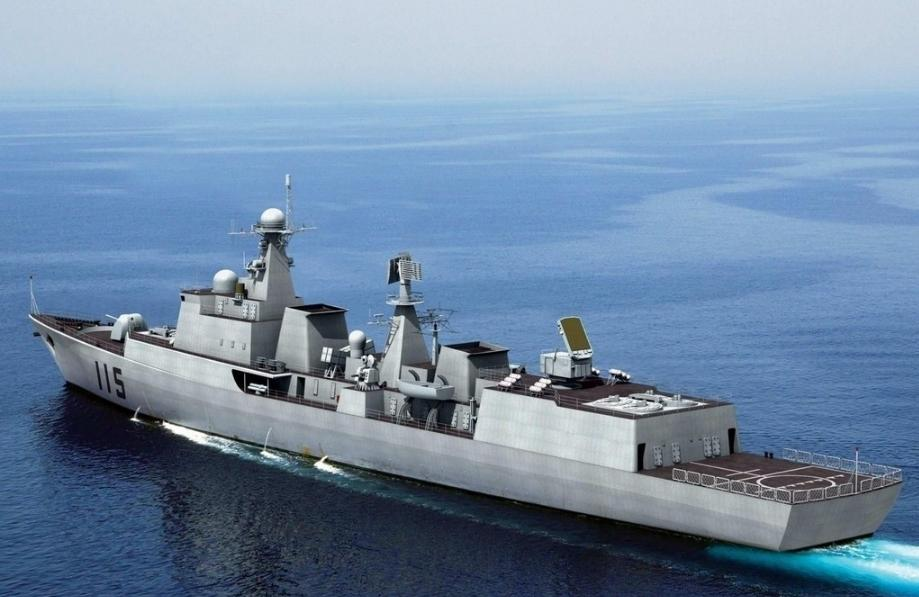warship: (20, 189, 916, 563)
